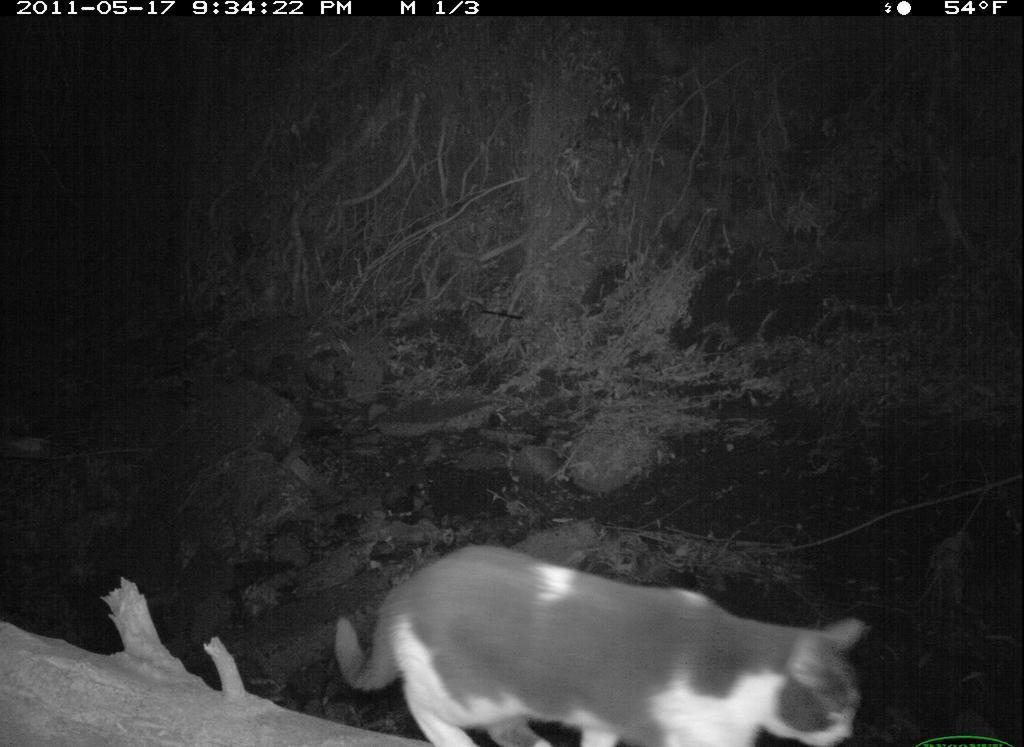cat: (335, 533, 868, 740)
